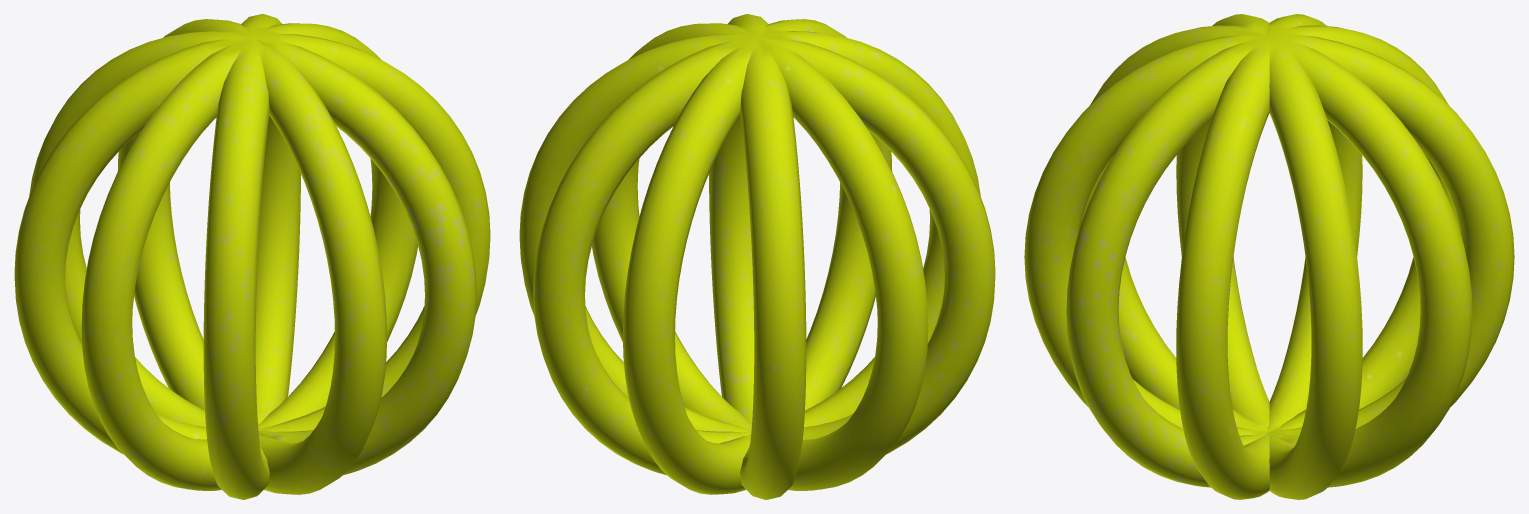
The model's file is hollow-planet.glb.
3 views of the same model, side by side, from view 1: azimuth 30°, elevation 25°; view 2: azimuth 150°, elevation 25°; view 3: azimuth 270°, elevation 25° (orthographic).
Parts seen in each view (by area): view 1: Object_6; view 2: Object_6; view 3: Object_6.
Part boxes in pixels (left/top/right/bottom): Object_6: left=14, top=14, right=490, bottom=499; Object_6: left=519, top=14, right=995, bottom=499; Object_6: left=1024, top=14, right=1514, bottom=499.
Bounding box in the file's own units: 2.14 × 2.23 × 2.24.
Materials: 1 (1 with a texture image).
